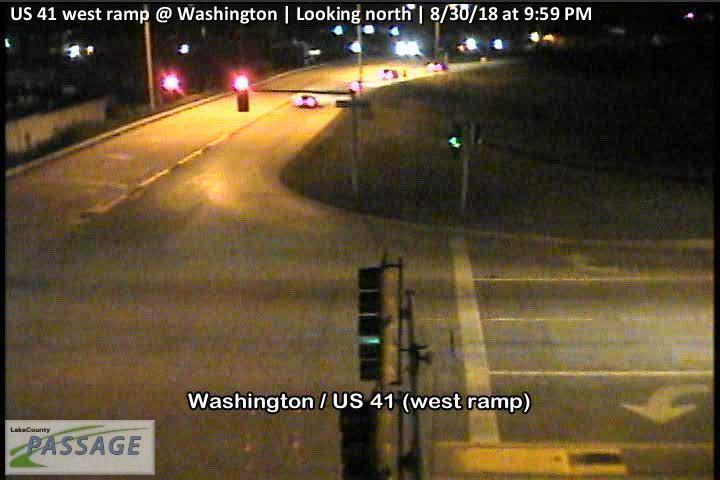Sedan: (291, 91, 320, 110), (421, 60, 449, 74), (379, 67, 408, 80)
